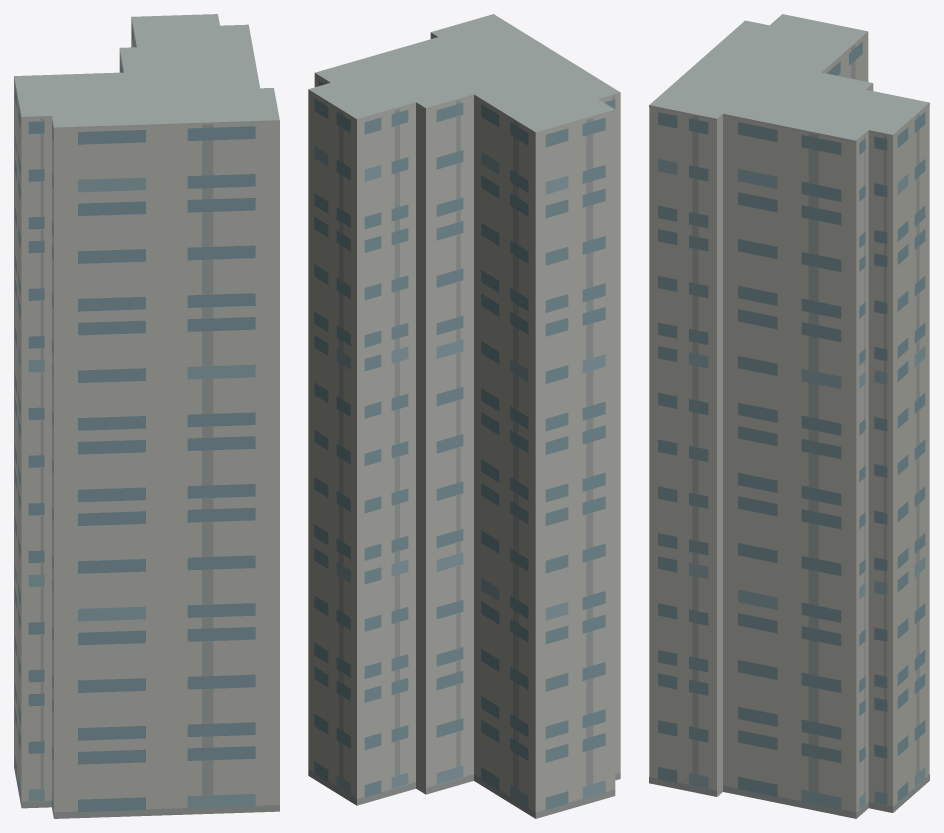
The model's file is residential-48addafd-98b8-41ff-a54d-99ab916fb034.glb.
3 views of the same model, side by side, from view 1: azimuth 30°, elevation 25°; view 2: azimuth 150°, elevation 25°; view 3: azimuth 270°, elevation 25° (orthographic).
Visible parts, largest first — view 1: residential-48addafd-98b8-41ff-a54d-99ab916fb034.tmp; view 2: residential-48addafd-98b8-41ff-a54d-99ab916fb034.tmp; view 3: residential-48addafd-98b8-41ff-a54d-99ab916fb034.tmp.
Boxes of the visible parts, <box> form: residential-48addafd-98b8-41ff-a54d-99ab916fb034.tmp: <box>14,14,279,818</box>; residential-48addafd-98b8-41ff-a54d-99ab916fb034.tmp: <box>308,14,620,818</box>; residential-48addafd-98b8-41ff-a54d-99ab916fb034.tmp: <box>649,14,929,818</box>.
Size of the model in its own units: 32.49 by 81 by 30.39.
